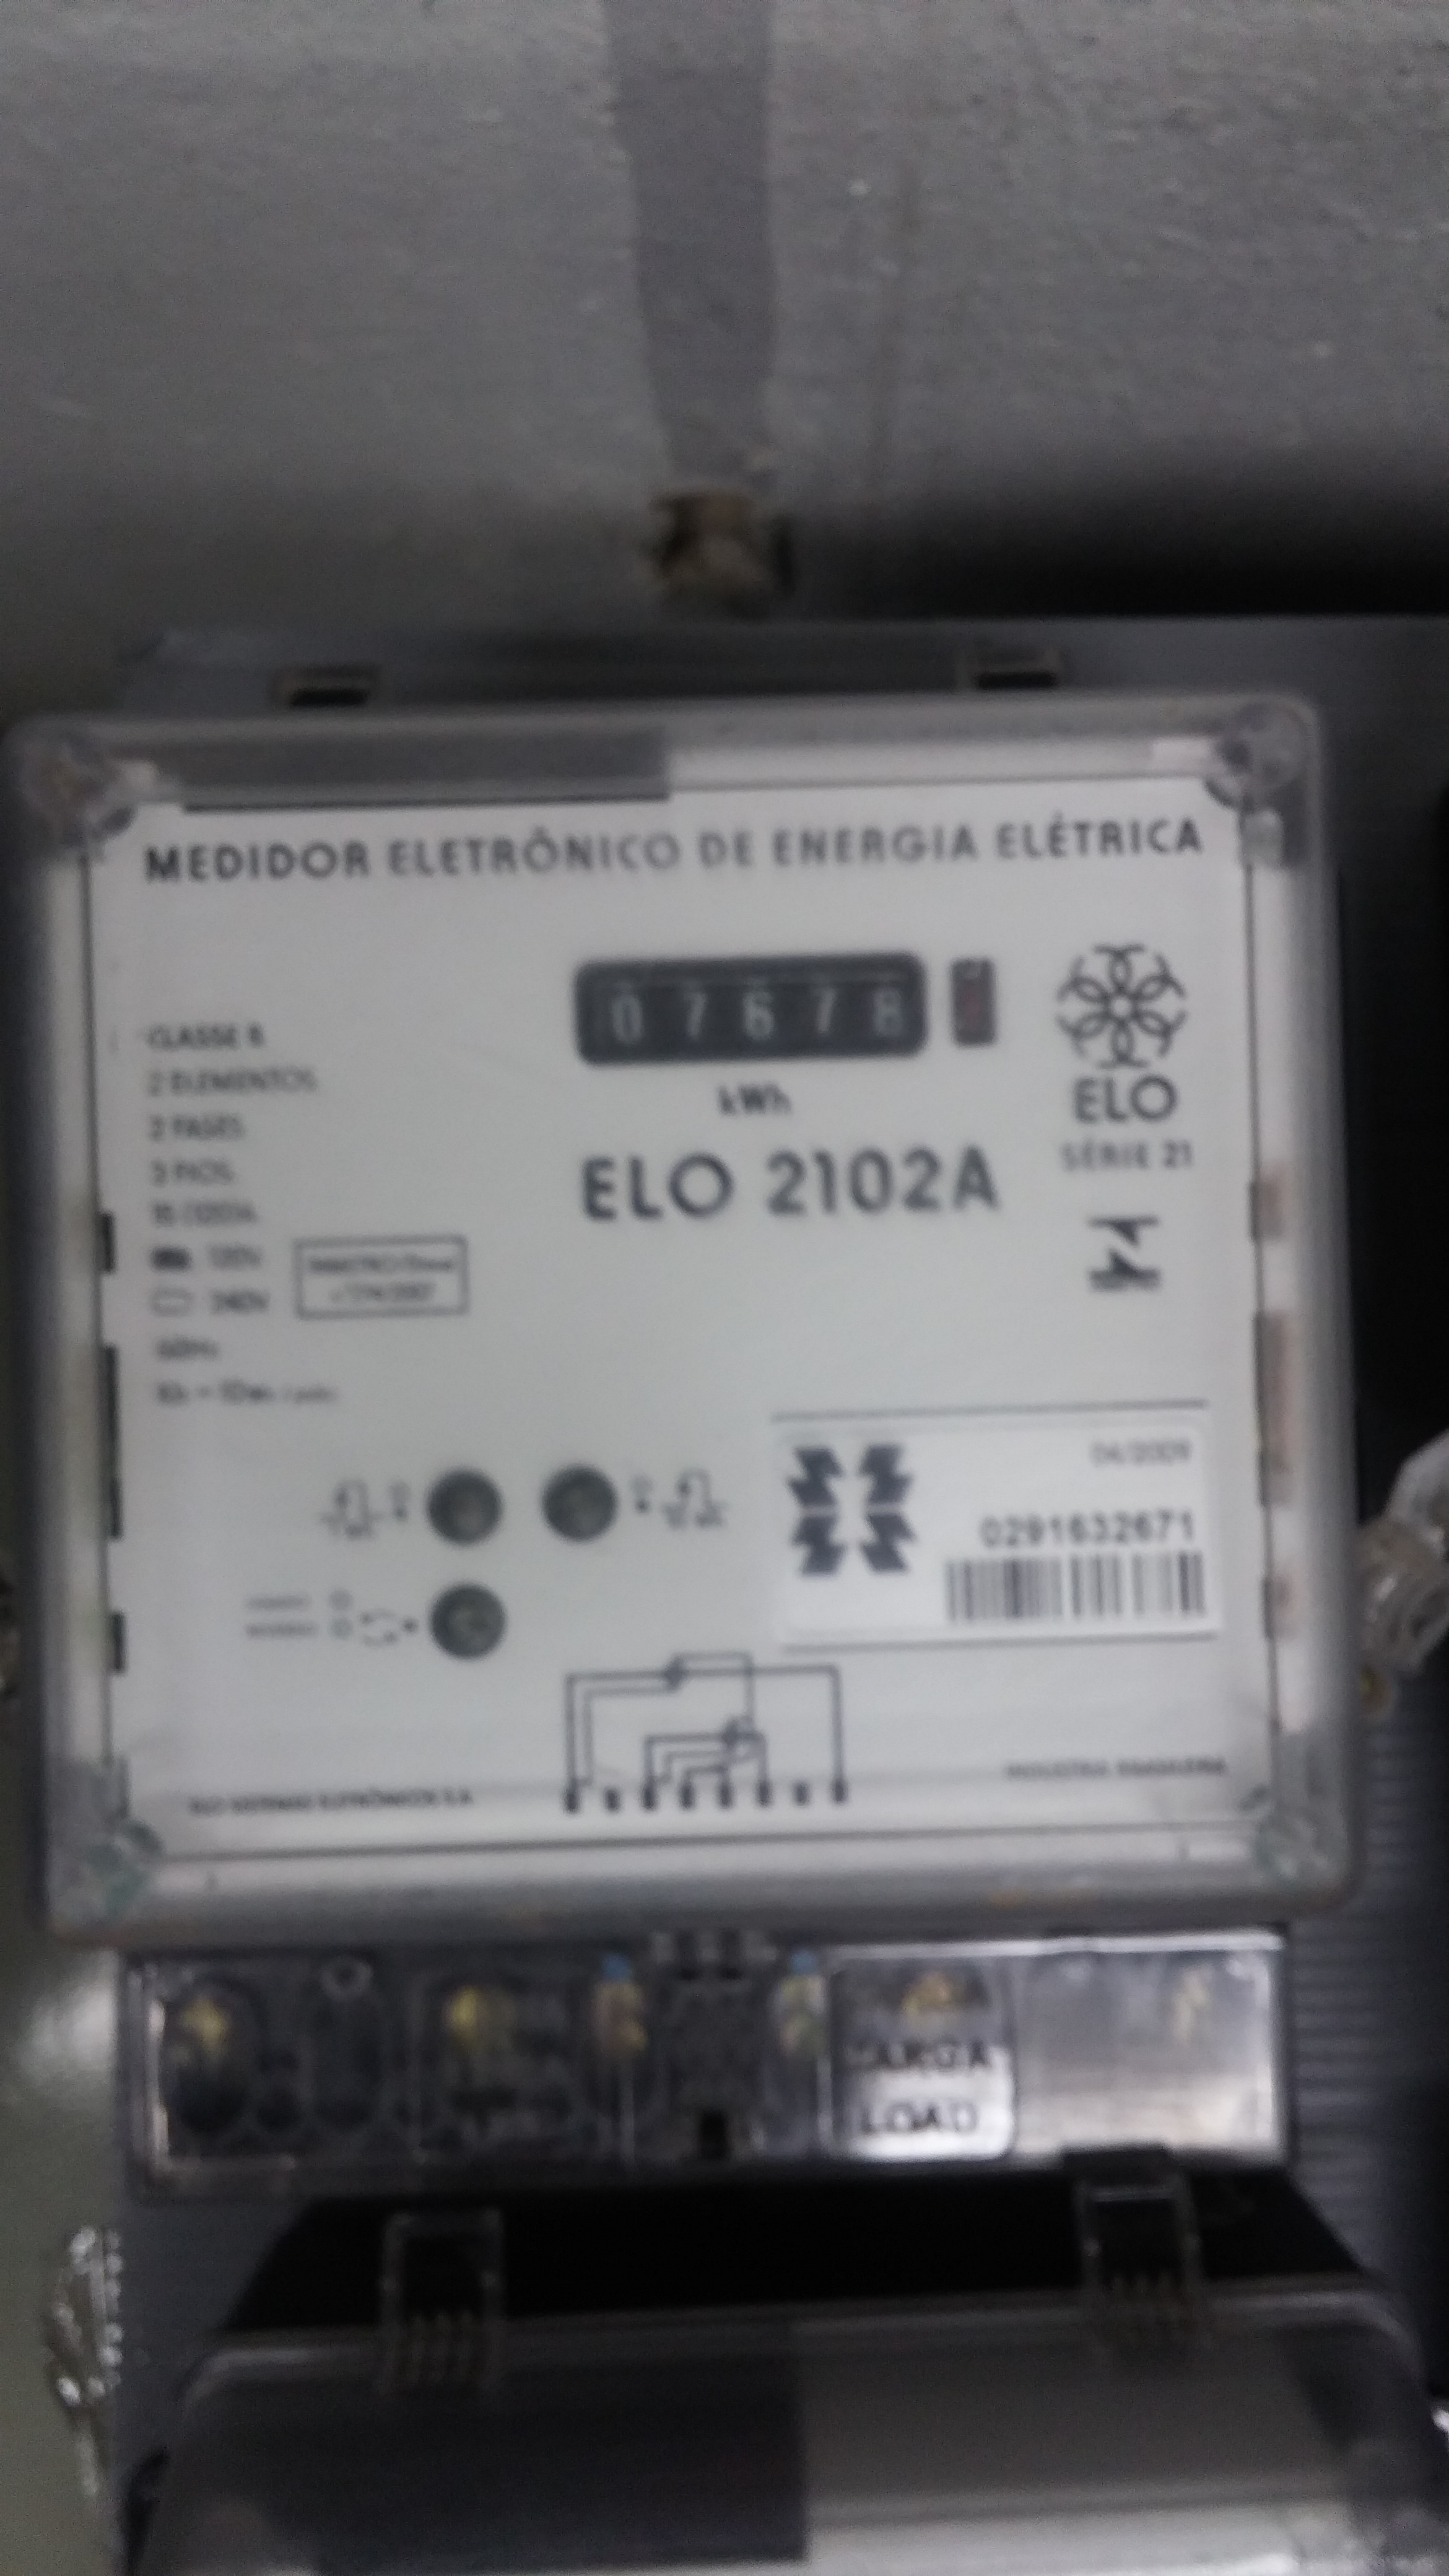counter2: (568, 954, 939, 1067)
